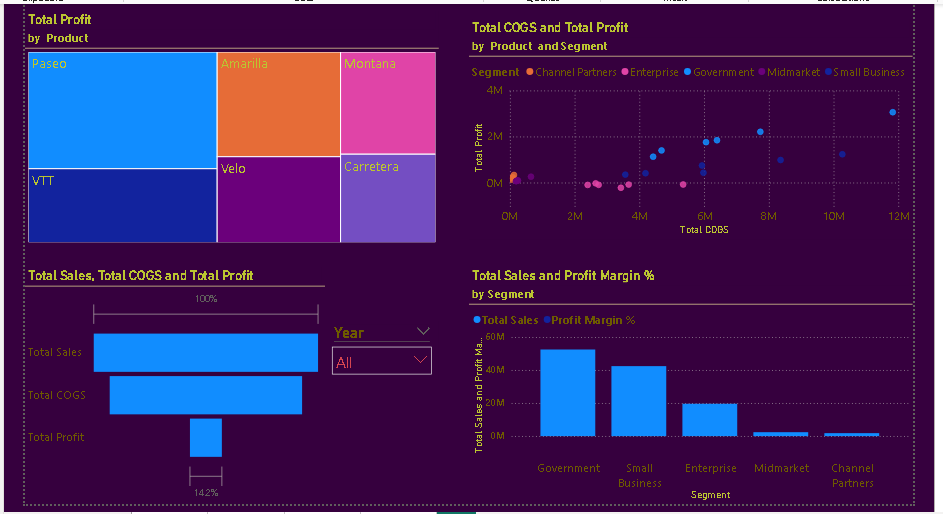

What the dashboard file says about the page in this screenshot:
{"tool":"powerbi","page":{"name":"Page 2","canvas":[1280,720],"ordinal":1},"visuals":[{"type":"funnel","fields":{"Y":["Financials.Total Sales","Financials.Total COGS","Financials.Total Profit"]},"box":[0,378.7,432,341.3],"z":0},{"type":"treemap","fields":{"Group":["Financials. Product "],"Values":["Financials.Total Profit"]},"box":[0,21.6,596.2,338.4],"z":1000},{"type":"scatterChart","fields":{"X":["Financials.Total COGS"],"Y":["Financials.Total Profit"],"Category":["Financials. Product "],"Series":["Financials.Segment"]},"box":[639.4,21.6,639.4,316.8],"z":2000},{"type":"columnChart","fields":{"Category":["Financials.Segment"],"Y":["Financials.Total Sales","Financials.Profit Margin %"]},"box":[639.4,378.7,639.4,341.3],"z":3000},{"type":"slicer","fields":{"Values":["DimDate.Year"]},"box":[432,456.5,164.2,83.5],"z":4000}]}

Visuals, with their boxes on the page's 1280x720 design canvas (x1, y1, x2, y2). These are canvas units, not pixel positions in the 943x514 screenshot, which may show the page scaled, cropped or inside an application window:
funnel - Financials.Total Sales x Financials.Total COGS: (x1=0, y1=379, x2=432, y2=720)
treemap - Financials. Product  x Financials.Total Profit: (x1=0, y1=22, x2=596, y2=360)
scatterChart - Financials.Total COGS x Financials.Total Profit: (x1=639, y1=22, x2=1279, y2=338)
columnChart - Financials.Segment x Financials.Total Sales: (x1=639, y1=379, x2=1279, y2=720)
slicer - DimDate.Year: (x1=432, y1=456, x2=596, y2=540)
